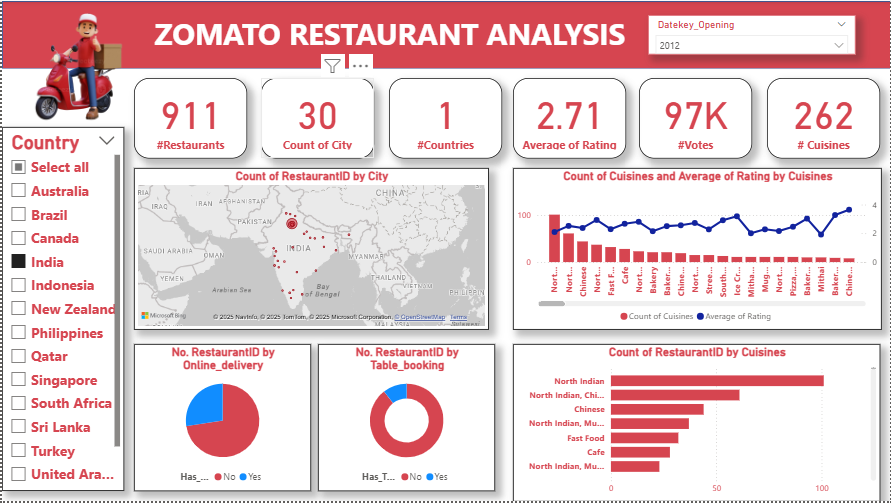

Layout of this report page (visuals, bound fields, positions):
{"tool":"powerbi","page":{"name":"Page 1","canvas":[1280,720],"ordinal":0},"visuals":[{"type":"shape","box":[0,0,1280,97.4],"z":0},{"type":"image","box":[0,0,218.4,181.4],"z":1000},{"type":"textbox","box":[198.2,13.4,719,70.6],"z":2000},{"type":"card","fields":{"Values":["CountNonNull(restaurants.RestaurantID)"]},"box":[189.8,110.9,162.9,115.9],"z":3000},{"type":"card","fields":{"Values":["Count(restaurants.City)"]},"box":[372.9,110.9,162.9,115.9],"z":4000},{"type":"card","fields":{"Values":["Count(restaurants.CountryCode)"]},"box":[557.7,110.9,162.9,115.9],"z":5000},{"type":"card","fields":{"Values":["Avg(restaurants.Rating)"]},"box":[735.7,110.9,162.9,115.9],"z":6000},{"type":"card","fields":{"Values":["Sum(restaurants.Votes)"]},"box":[917.2,110.9,162.9,115.9],"z":7000},{"type":"card","fields":{"Values":["Count(restaurants.Cuisines)"]},"box":[1101.9,110.9,162.9,115.9],"z":8000},{"type":"slicer","fields":{"Values":["country.country name"]},"box":[0,181.4,176.4,524.1],"z":9000},{"type":"lineStackedColumnComboChart","fields":{"Category":["restaurants.Cuisines"],"Y":["CountNonNull(restaurants.Cuisines)"],"Y2":["Avg(restaurants.Rating)"]},"box":[735.7,240.2,530.8,233.5],"z":10000},{"type":"map","fields":{"Category":["restaurants.City"],"Size":["CountNonNull(restaurants.RestaurantID)"]},"box":[189.8,240.2,510.7,233.5],"z":11000},{"type":"clusteredBarChart","fields":{"Category":["restaurants.Cuisines"],"Y":["CountNonNull(restaurants.RestaurantID)"]},"box":[735.7,493.9,529.1,226.8],"z":11001},{"type":"pieChart","title":"No. RestaurantID by Online_delivery","fields":{"Category":["restaurants.Has_Online_delivery"],"Y":["CountNonNull(restaurants.RestaurantID)"]},"box":[189.8,493.9,255.3,211.7],"z":11002},{"type":"donutChart","title":"No. RestaurantID by Table_booking","fields":{"Category":["restaurants.Has_Table_booking"],"Y":["CountNonNull(restaurants.RestaurantID)"]},"box":[455.2,493.9,255.3,211.7],"z":11003},{"type":"slicer","fields":{"Values":["restaurants.Datekey_Opening"]},"box":[930.6,20.2,299,57.1],"z":11004}]}

Visuals, with their boxes in screenshot pixels (x1, y1, x2, y2), scaled from the page's 1280x720 canvas onto the 891x503 screenshot:
shape: (0, 0, 890, 68)
image: (0, 0, 152, 127)
textbox: (138, 9, 638, 59)
card - CountNonNull(restaurants.RestaurantID): (132, 77, 246, 158)
card - Count(restaurants.City): (260, 77, 373, 158)
card - Count(restaurants.CountryCode): (388, 77, 502, 158)
card - Avg(restaurants.Rating): (512, 77, 626, 158)
card - Sum(restaurants.Votes): (638, 77, 752, 158)
card - Count(restaurants.Cuisines): (767, 77, 880, 158)
slicer - country.country name: (0, 127, 123, 493)
lineStackedColumnComboChart - restaurants.Cuisines x CountNonNull(restaurants.Cuisines): (512, 168, 882, 331)
map - restaurants.City x CountNonNull(restaurants.RestaurantID): (132, 168, 488, 331)
clusteredBarChart - restaurants.Cuisines x CountNonNull(restaurants.RestaurantID): (512, 345, 880, 502)
"No. RestaurantID by Online_delivery" pieChart: (132, 345, 310, 493)
"No. RestaurantID by Table_booking" donutChart: (317, 345, 495, 493)
slicer - restaurants.Datekey_Opening: (648, 14, 856, 54)
